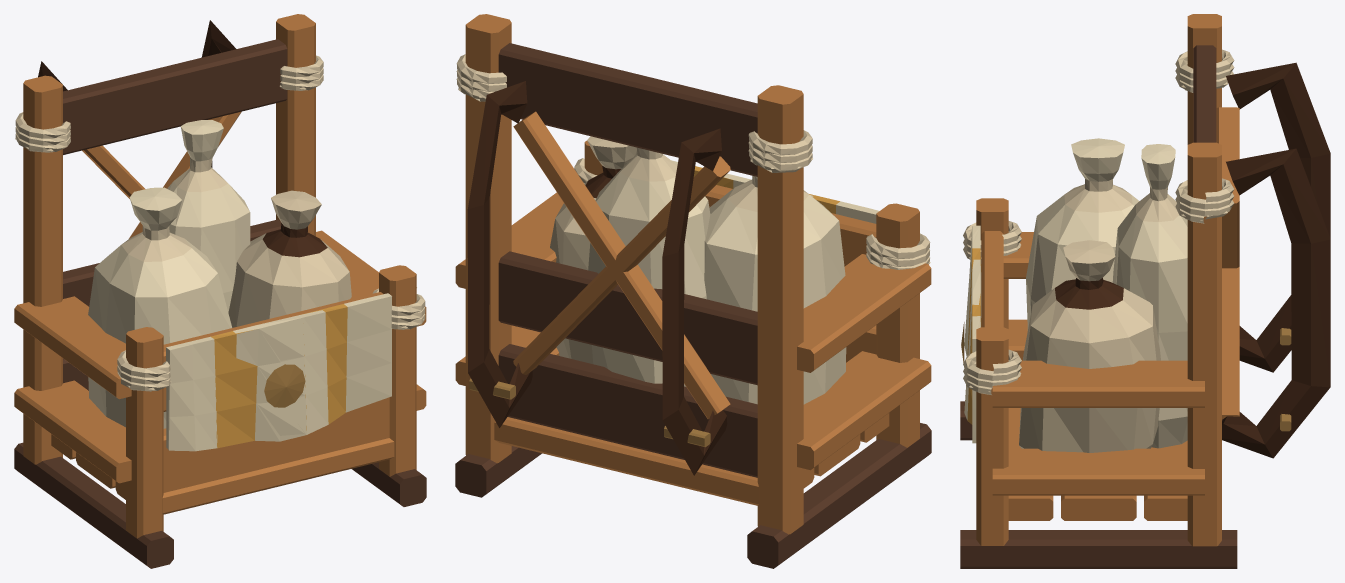
The model's file is prop_trade_pack_provisions_a.glb.
The picture shows the model from 3 angles, left to right: view 1: azimuth 30°, elevation 25°; view 2: azimuth 150°, elevation 25°; view 3: azimuth 270°, elevation 25°; orthographic projection. The views are drawn at different scales.
Visible parts, largest first — view 1: prop_trade_pack_provisions_a_freight_0, prop_trade_pack_provisions_a_freight_1; view 2: prop_trade_pack_provisions_a_freight_0, prop_trade_pack_provisions_a_freight_1; view 3: prop_trade_pack_provisions_a_freight_0, prop_trade_pack_provisions_a_freight_1.
Boxes of the visible parts, x1,y1,x2,y2 form: prop_trade_pack_provisions_a_freight_0: (14, 14, 426, 568); prop_trade_pack_provisions_a_freight_1: (15, 80, 423, 448); prop_trade_pack_provisions_a_freight_0: (455, 14, 931, 568); prop_trade_pack_provisions_a_freight_1: (458, 87, 930, 264); prop_trade_pack_provisions_a_freight_0: (960, 14, 1330, 568); prop_trade_pack_provisions_a_freight_1: (964, 82, 1227, 443).
Bounding box in the file's own units: 0.81 × 0.99 × 0.8028.
